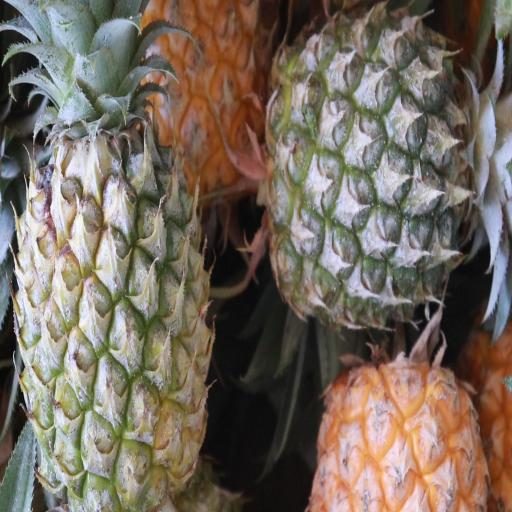Pineapple - v8 v1: (310, 348, 497, 512), (144, 0, 266, 218)
